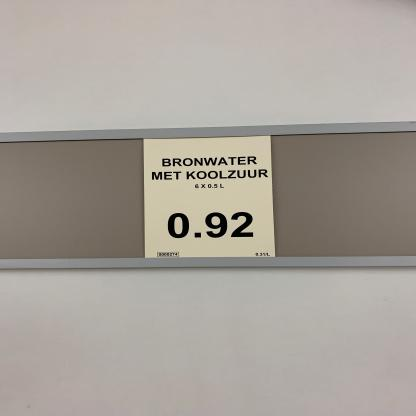prtg: (144, 137, 277, 259)
